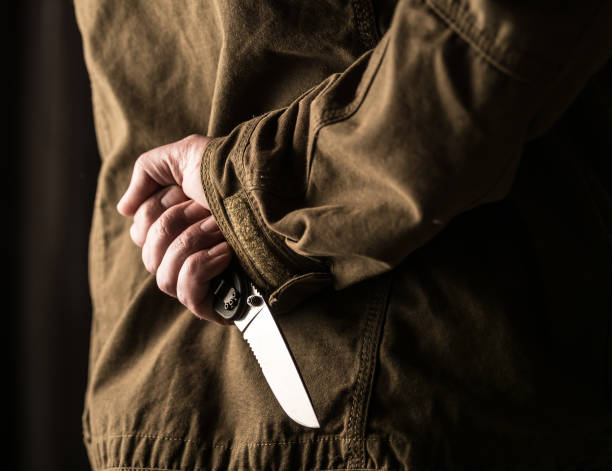knife: (208, 267, 323, 430)
